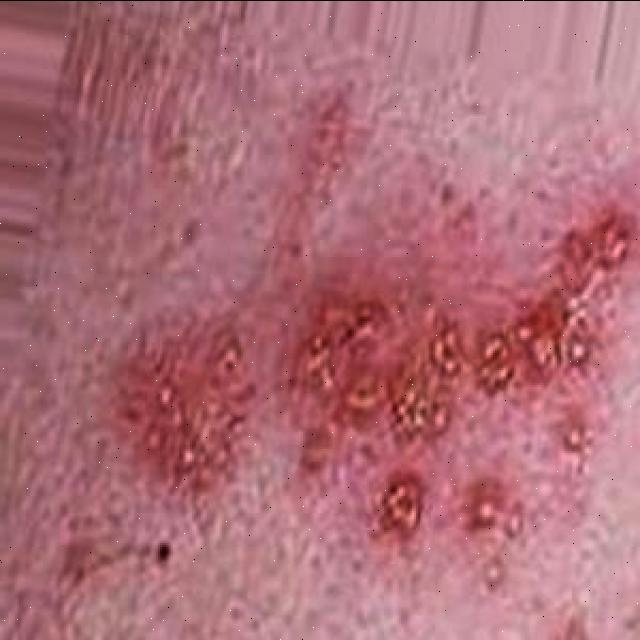Shingles: (301, 212, 629, 528), (137, 341, 249, 485)
